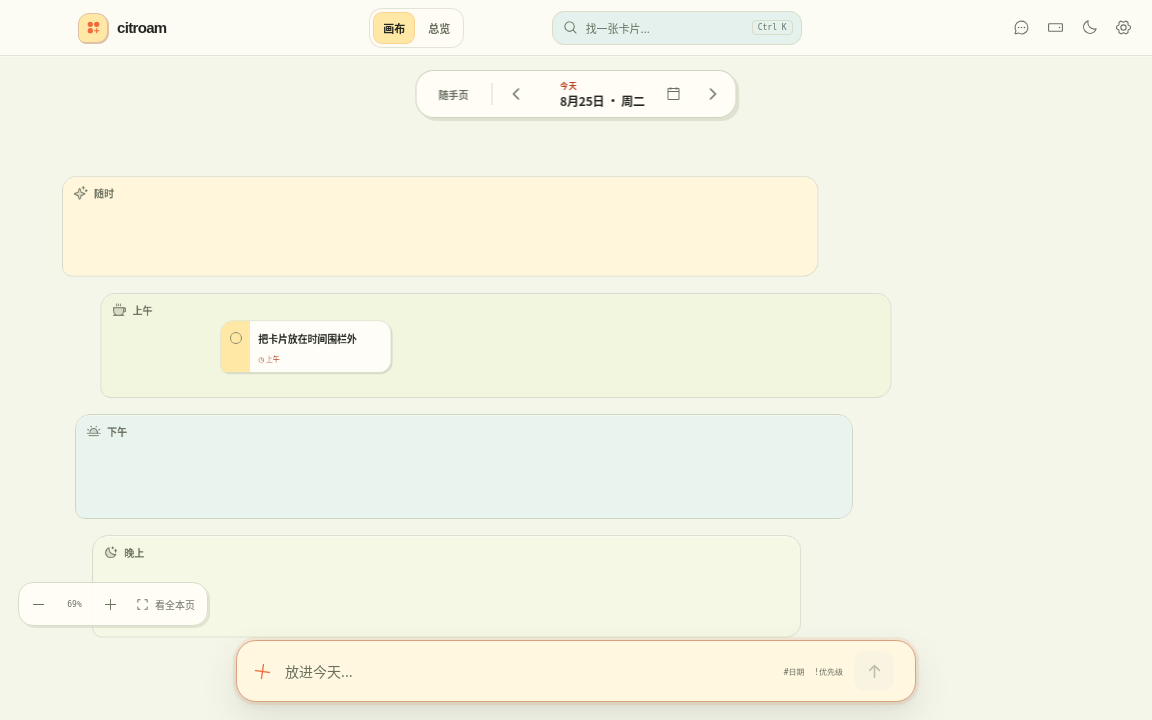
date page canvas › commits and ends inline title editing when manually browsing another page
Double-click the button named "打开卡片：把卡片放在时间围栏外" at [320, 347], box [250,321,390,372]
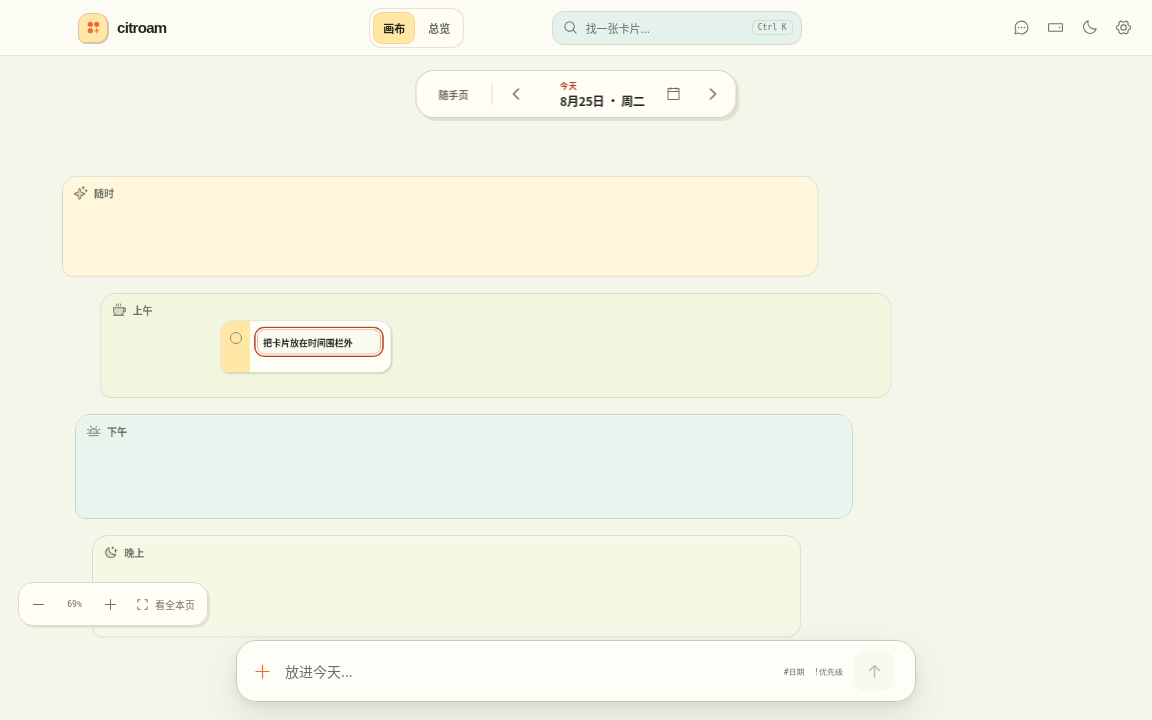
Replace the text in the field named "就地编辑卡片：把卡片放在时间围栏外" with "翻页前在卡片上改好的标题" at [319, 342], box [257,330,381,354]
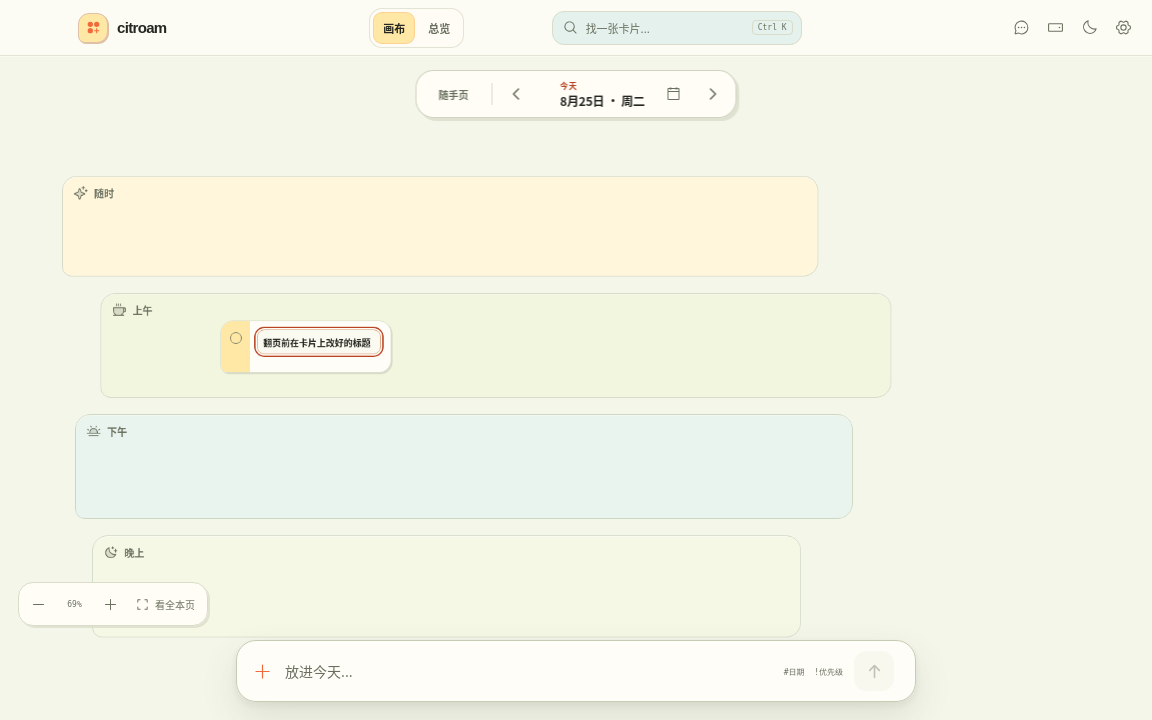
Click the button named "后一天" at [712, 94], box [694,76,730,112]
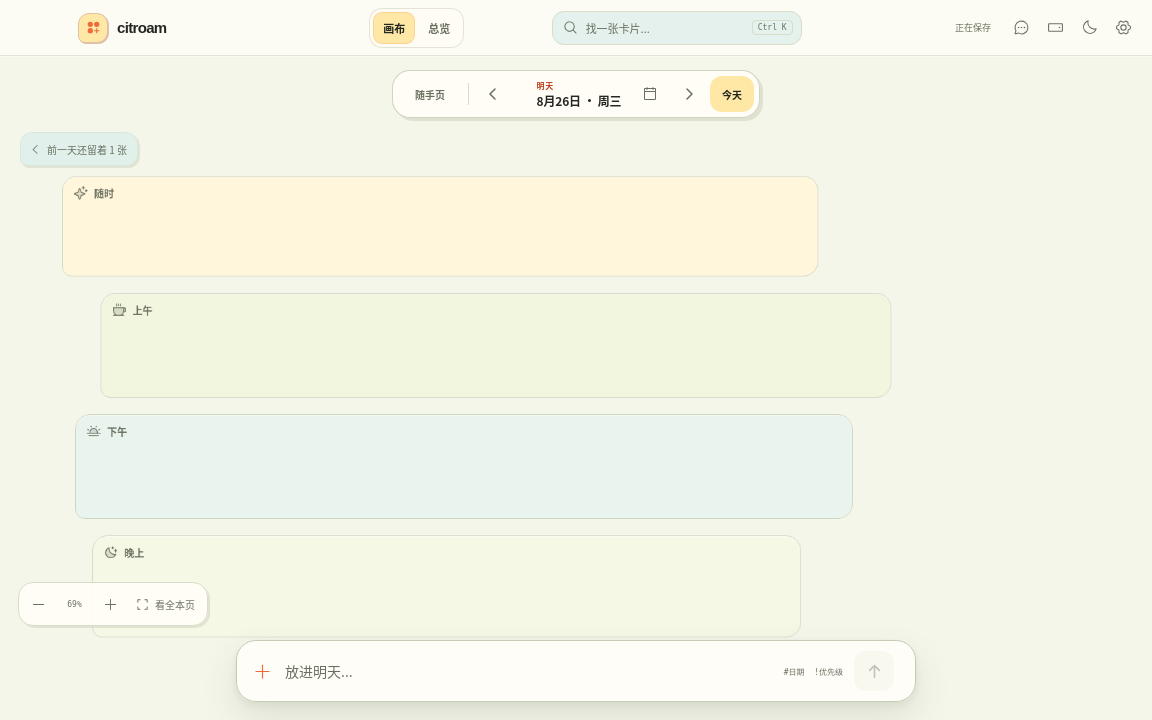
Click the button named "前一天" at [493, 94], box [475,76,511,112]
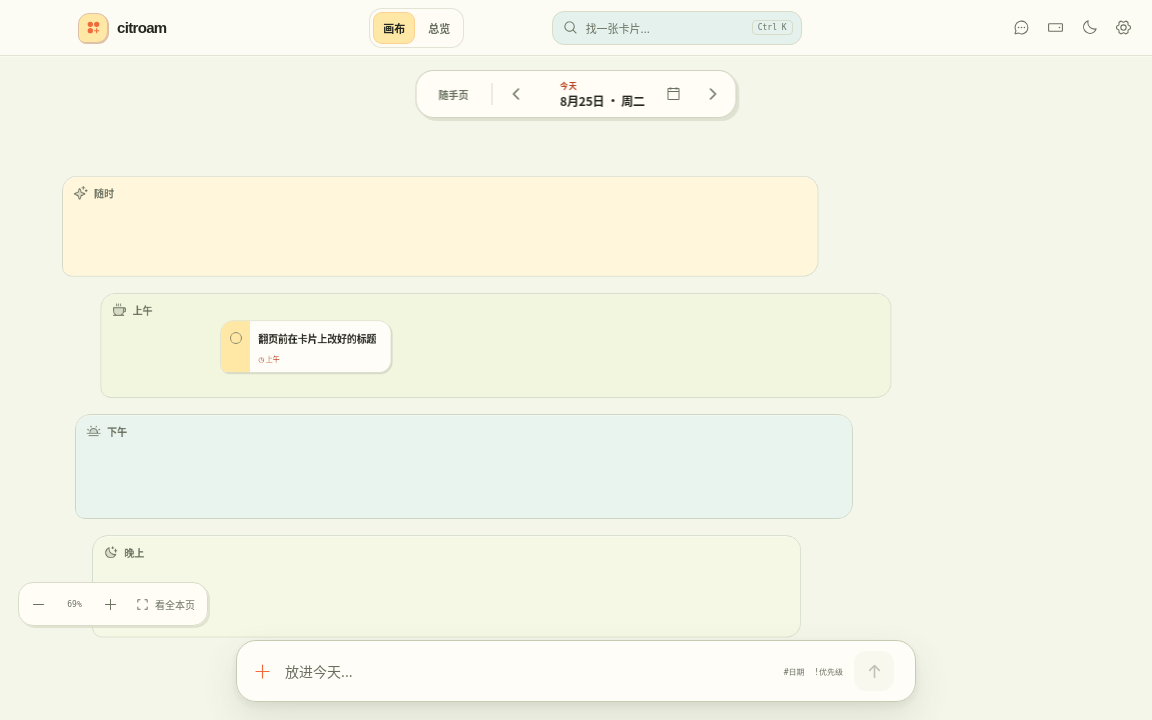
Result: the text "翻页前在卡片上改好的标题" is shown at [258,331,376,345]
Result: the button named "打开卡片：翻页前在卡片上改好的标题" is shown at [250,321,390,372]
